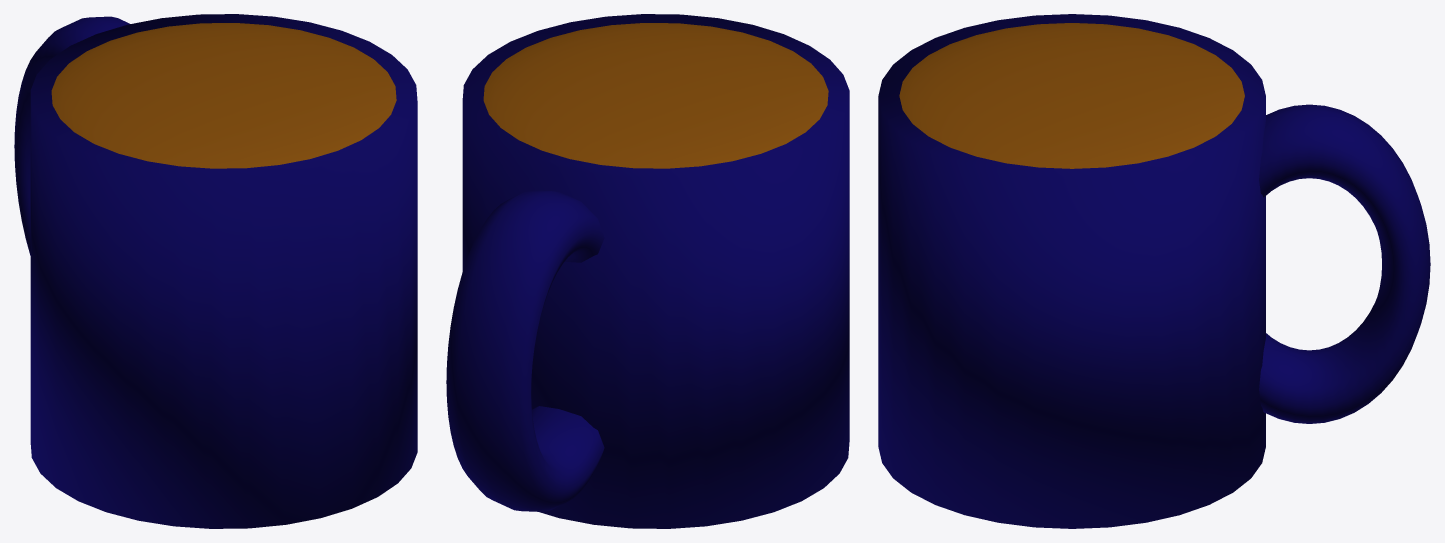
File: bluecoffecup.fbx
The picture shows the model from 3 angles, left to right: view 1: azimuth 30°, elevation 25°; view 2: azimuth 150°, elevation 25°; view 3: azimuth 270°, elevation 25°; orthographic projection.
Visible parts, largest first — view 1: Torus, Sphere; view 2: Torus, Sphere; view 3: Torus, Sphere.
Part boxes in pixels (x1,y1,x2,y2): Torus: [14, 14, 417, 528]; Sphere: [51, 23, 396, 168]; Torus: [446, 14, 849, 528]; Sphere: [483, 23, 828, 168]; Torus: [878, 14, 1430, 528]; Sphere: [899, 23, 1244, 168].
Size of the model in its own units: 200 by 209 by 285.
